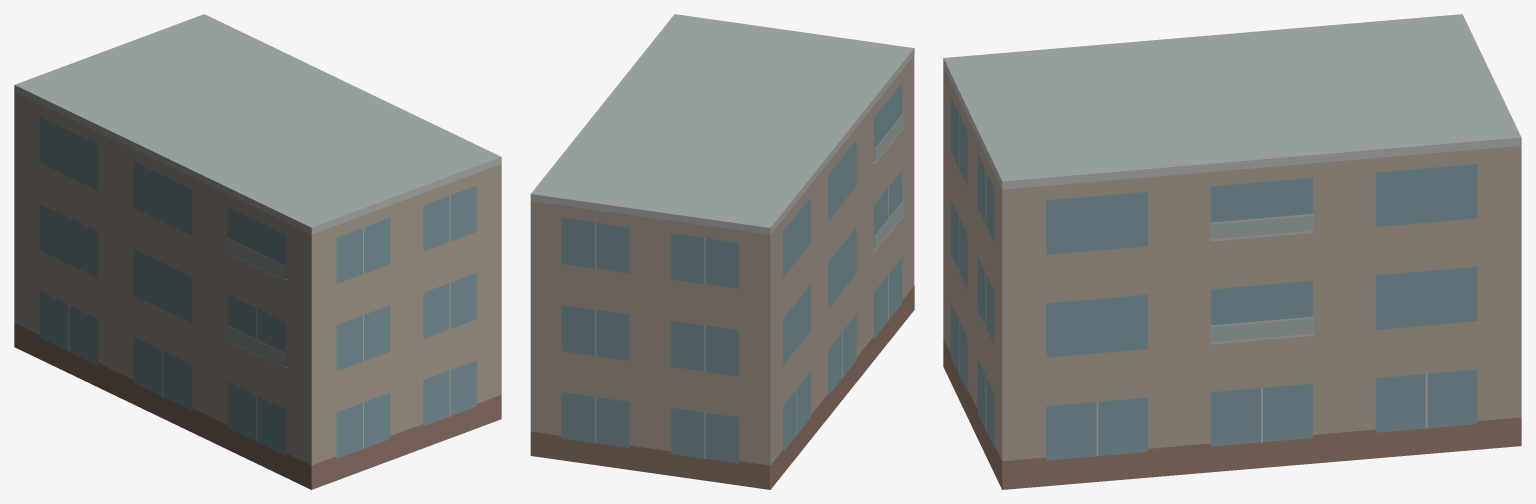
The model's file is survey-upis-32721376.glb.
3 renders of one model, left to right at view 1: azimuth 30°, elevation 25°; view 2: azimuth 150°, elevation 25°; view 3: azimuth 270°, elevation 25°, orthographic. The views are drawn at different scales.
Visible parts, largest first — view 1: survey-upis-32721376.tmp; view 2: survey-upis-32721376.tmp; view 3: survey-upis-32721376.tmp.
Part boxes in pixels (x1,y1,x2,y2): survey-upis-32721376.tmp: (14, 14, 501, 489); survey-upis-32721376.tmp: (530, 14, 914, 489); survey-upis-32721376.tmp: (943, 14, 1521, 489).
Size of the model in its own units: 10.66 by 9.15 by 15.55.
